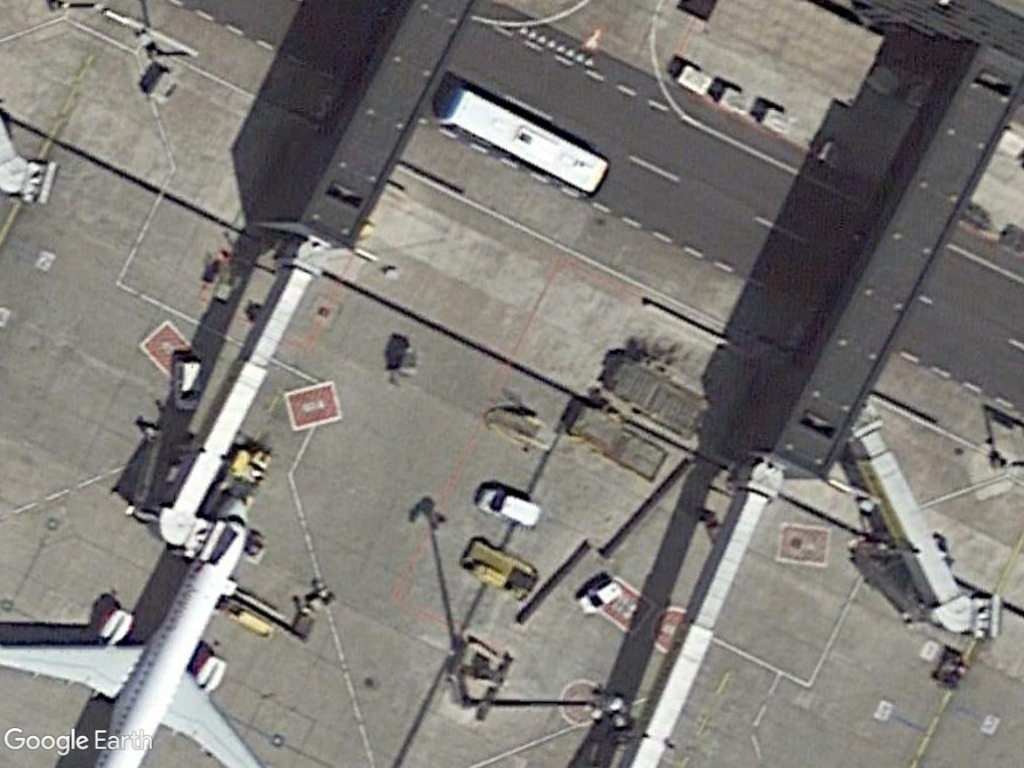bus: (437, 82, 612, 204)
van: (474, 479, 543, 529), (170, 354, 208, 415), (574, 574, 624, 617)
